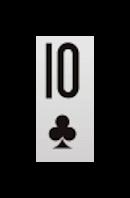10C: (40, 39, 87, 155)
